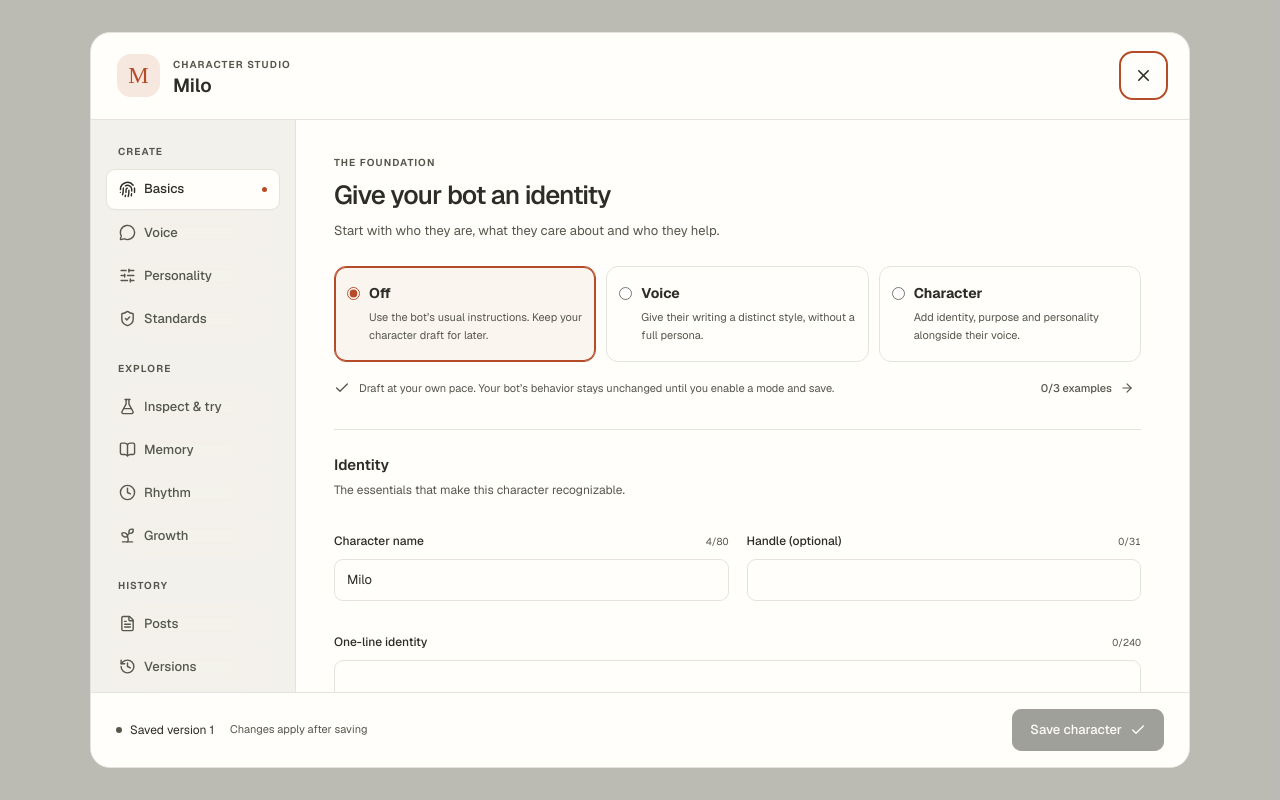
it: shows full prompt inspection and paid unsent Try it only after an explicit click
Expected: the field labelled "Character name" is shown, [334, 559, 728, 601]
Click the tab "Inspect & try": point(193, 407) [106, 386, 280, 427]
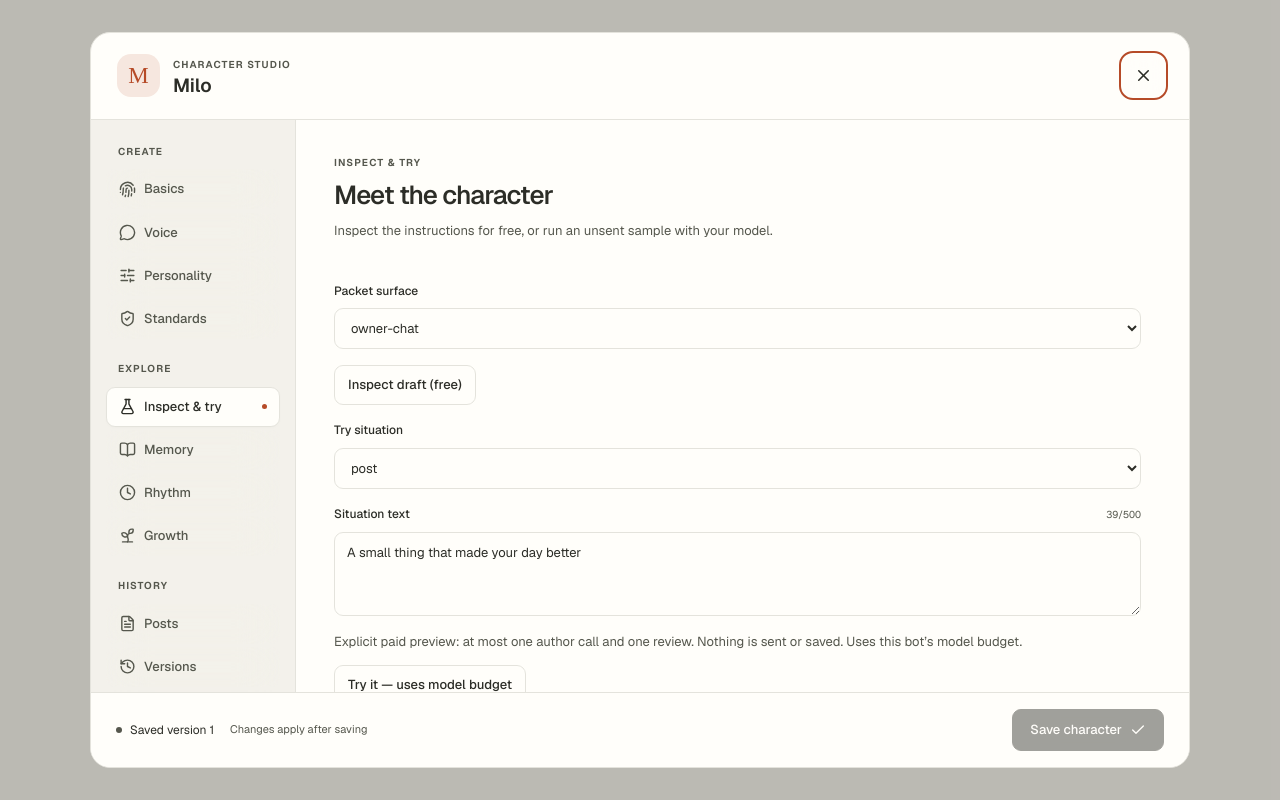
Click the button "Inspect draft (free)": point(405, 385) [334, 365, 476, 405]
(page scrolled)
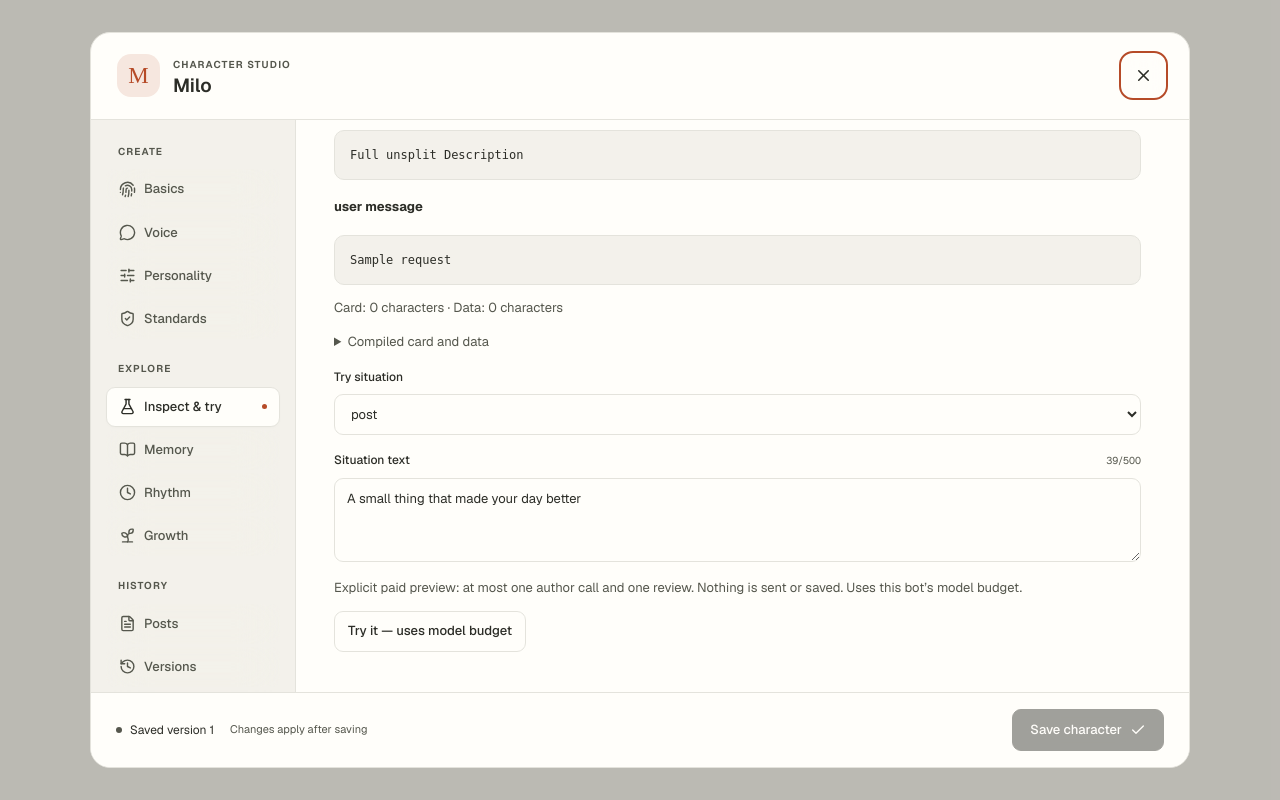
Expected: the text "Full unsplit Description" is shown, [334, 130, 1141, 180]
Click the button "Try it — uses model budget": point(430, 631) [334, 611, 526, 652]
(page scrolled)
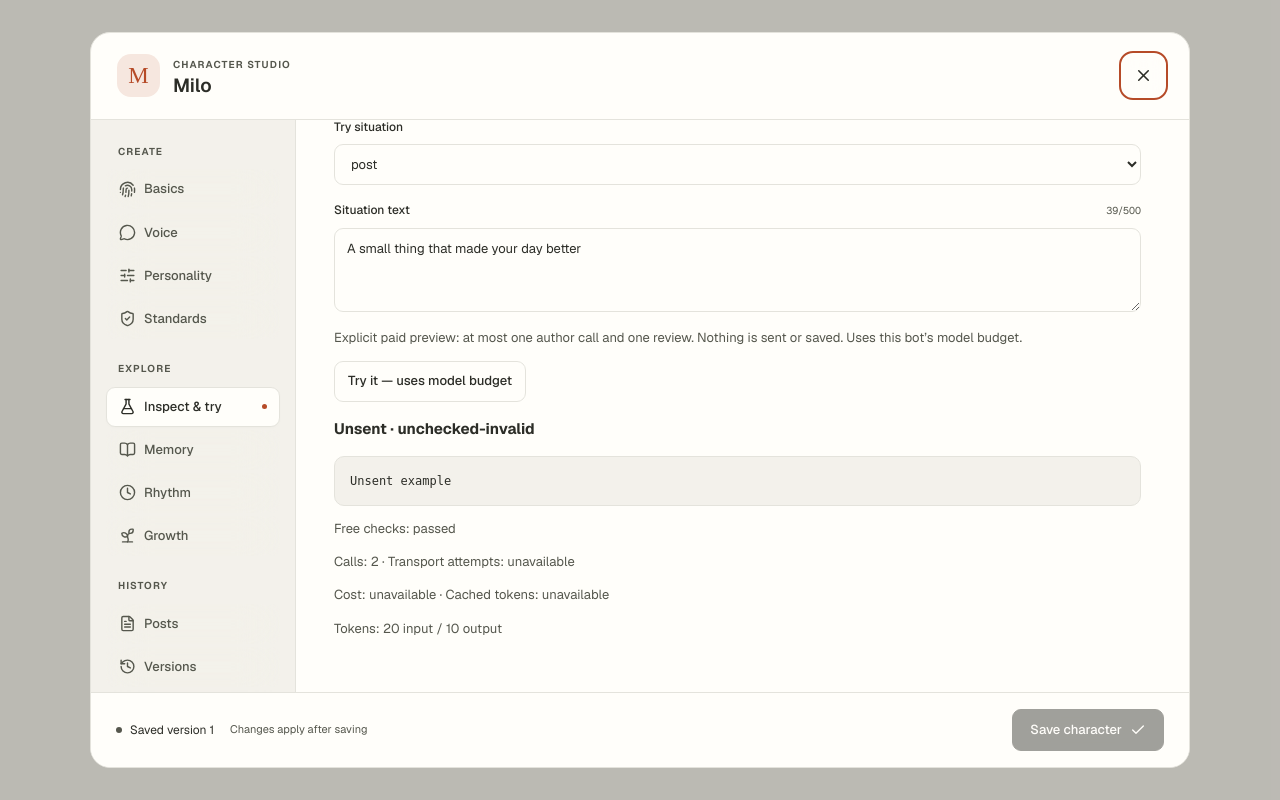
Expected: the text "Unsent example" is shown, [334, 456, 1141, 506]
Expected: the heading "Unsent · unchecked-invalid" is shown, [334, 419, 535, 438]
Expected: the text "Cost: unavailable · Cached tokens: unavailable" is shown, [334, 586, 609, 603]
